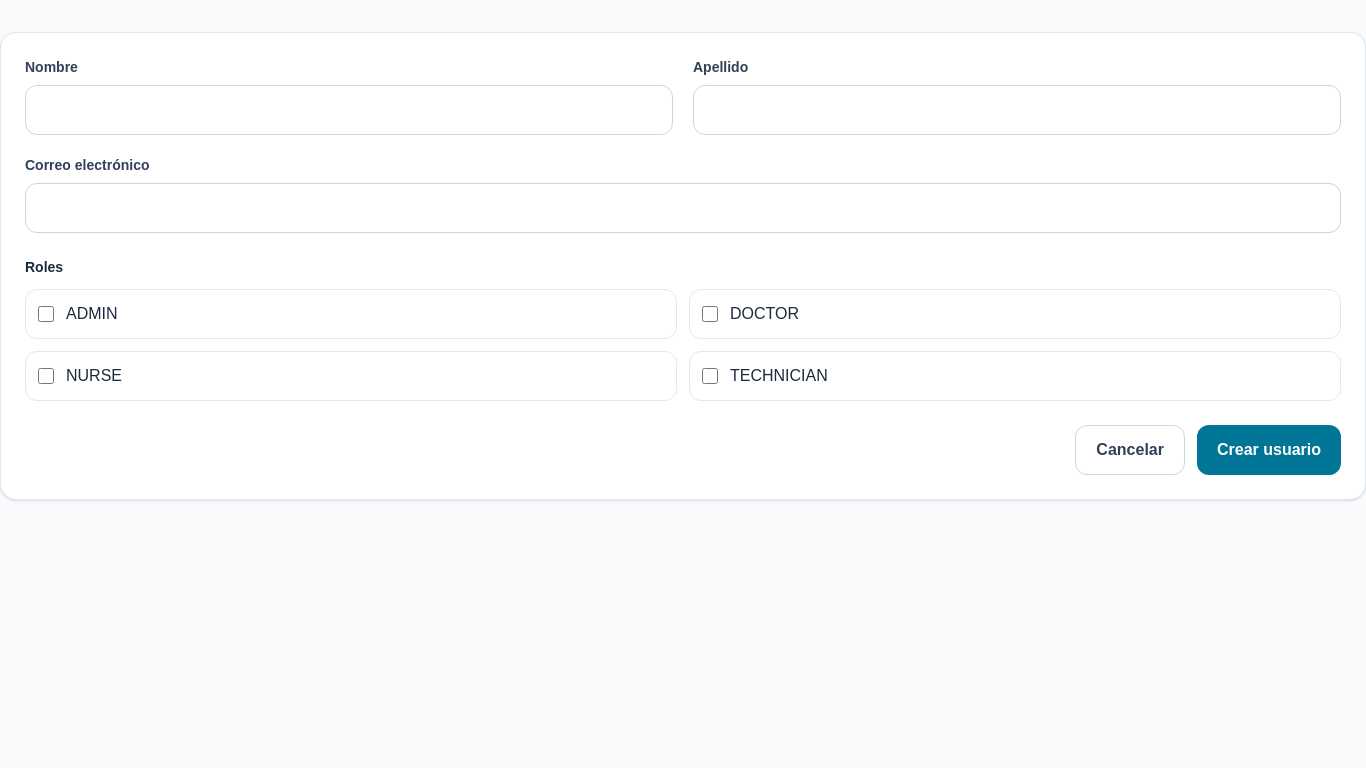
NewUserForm › exige al menos un rol
This screenshot has width=1366, height=768.
Type "doctor@hospital.com" into the field labelled "Correo electrónico" at (683, 208), box x1=25 y1=183 x2=1341 y2=233
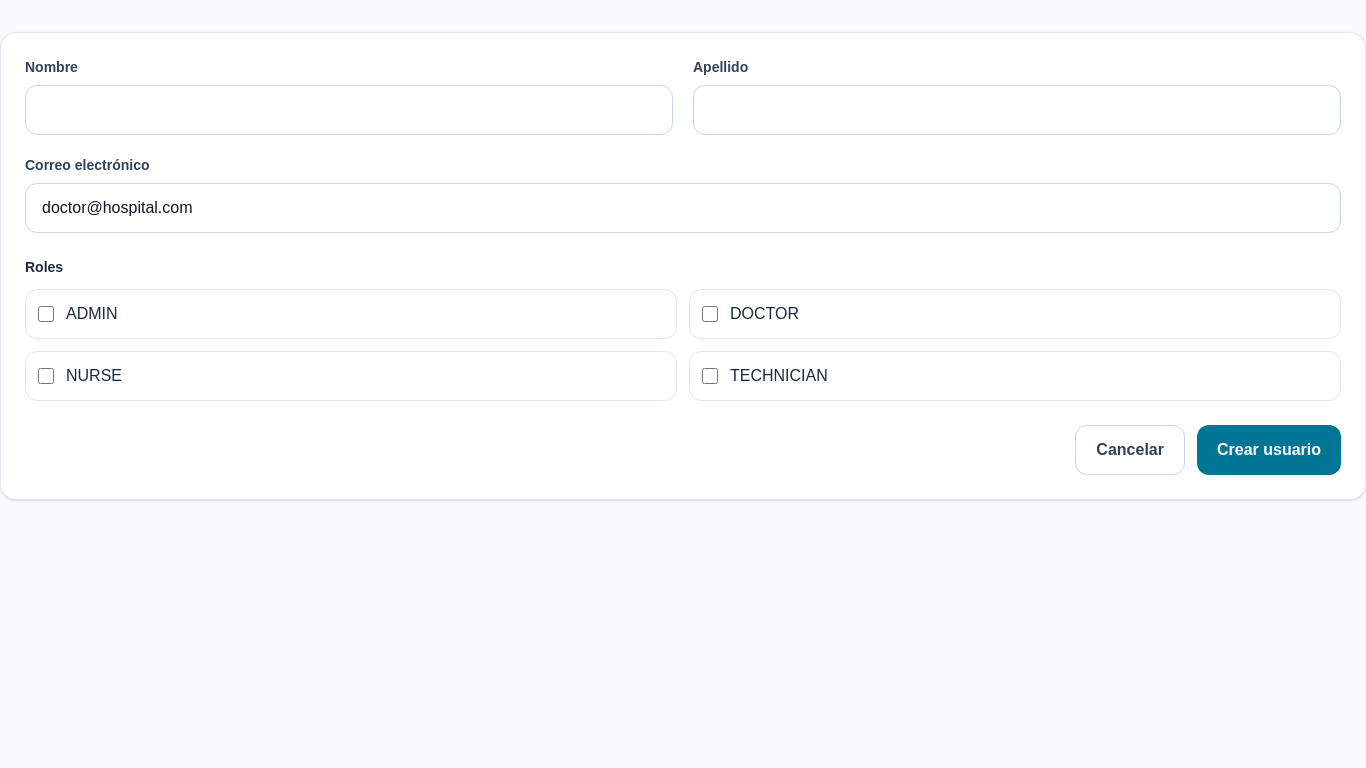
Type "Juan" into the field labelled "Nombre" at (349, 110), box x1=25 y1=85 x2=673 y2=135
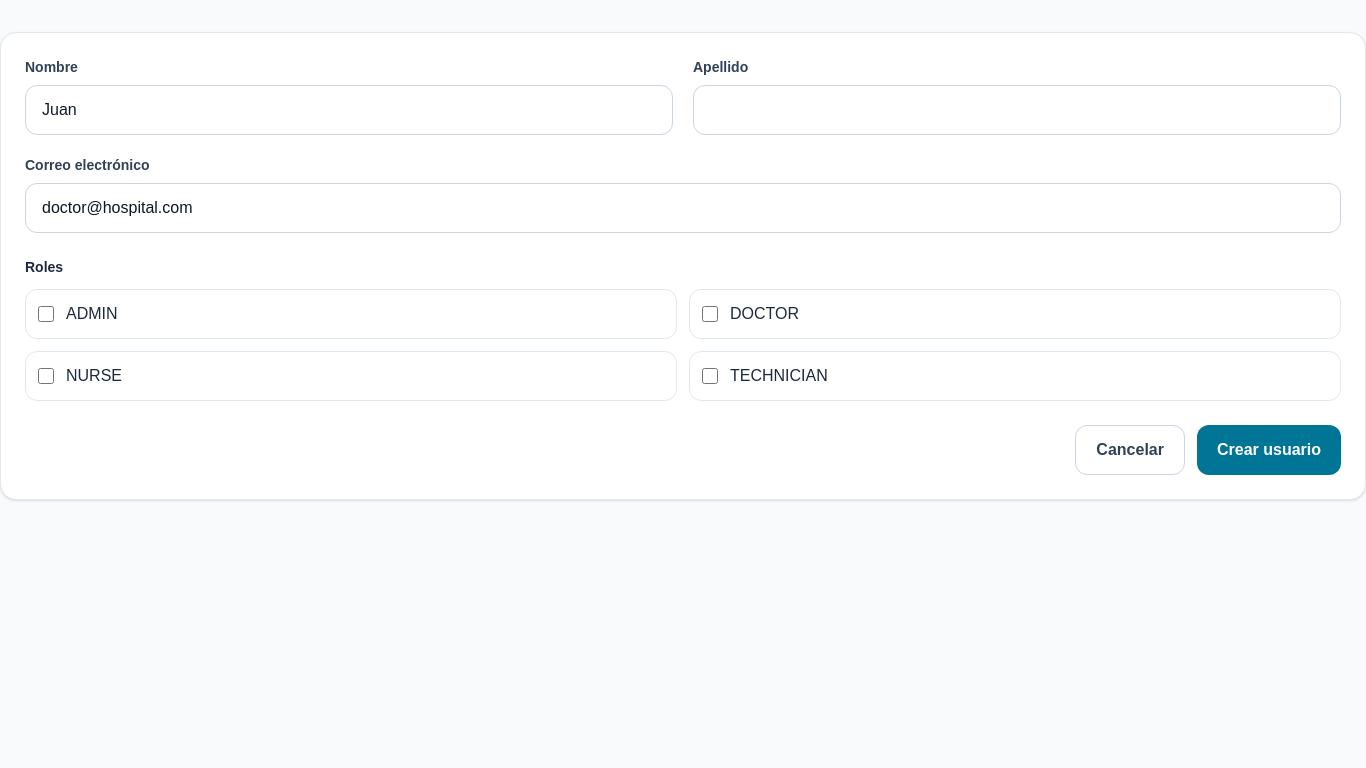
Type "Pérez" into the field labelled "Apellido" at (1017, 110), box x1=693 y1=85 x2=1341 y2=135
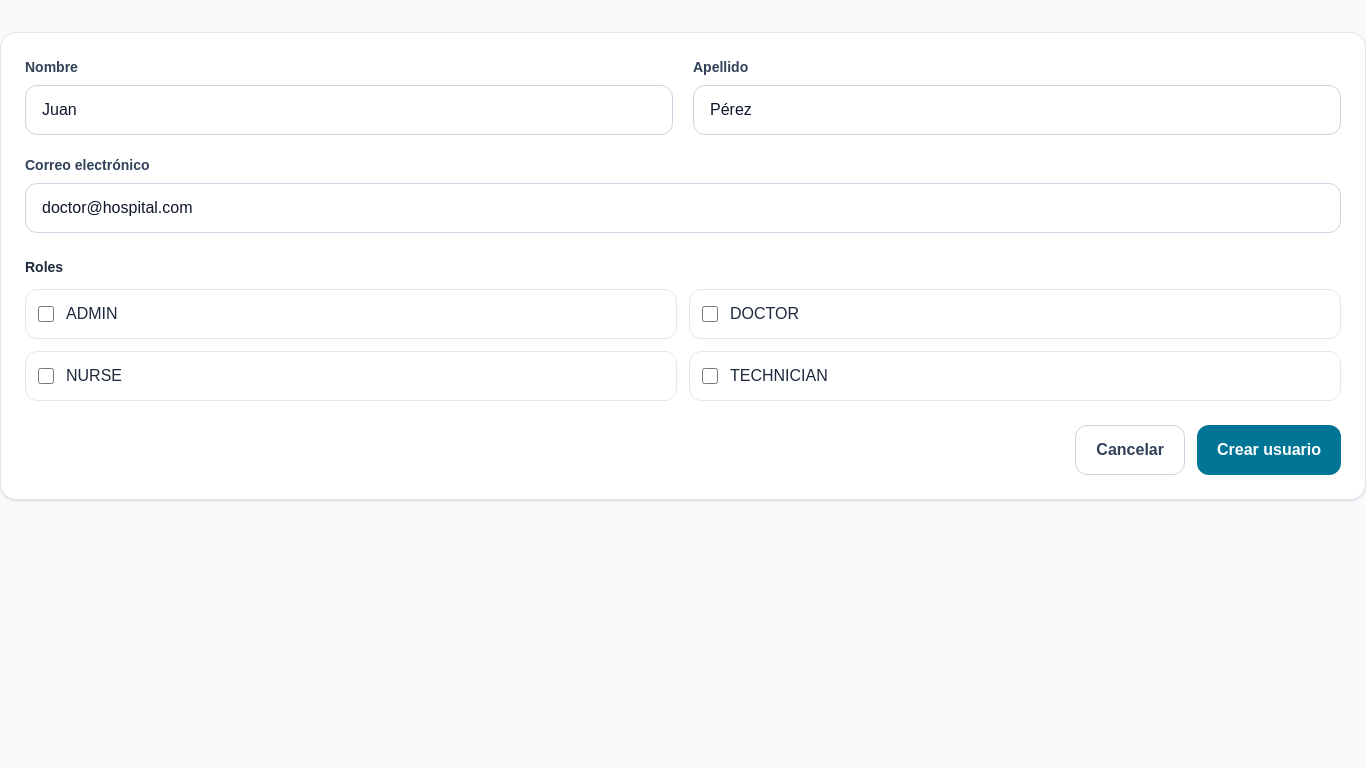
Submit the form named "Crear usuario"
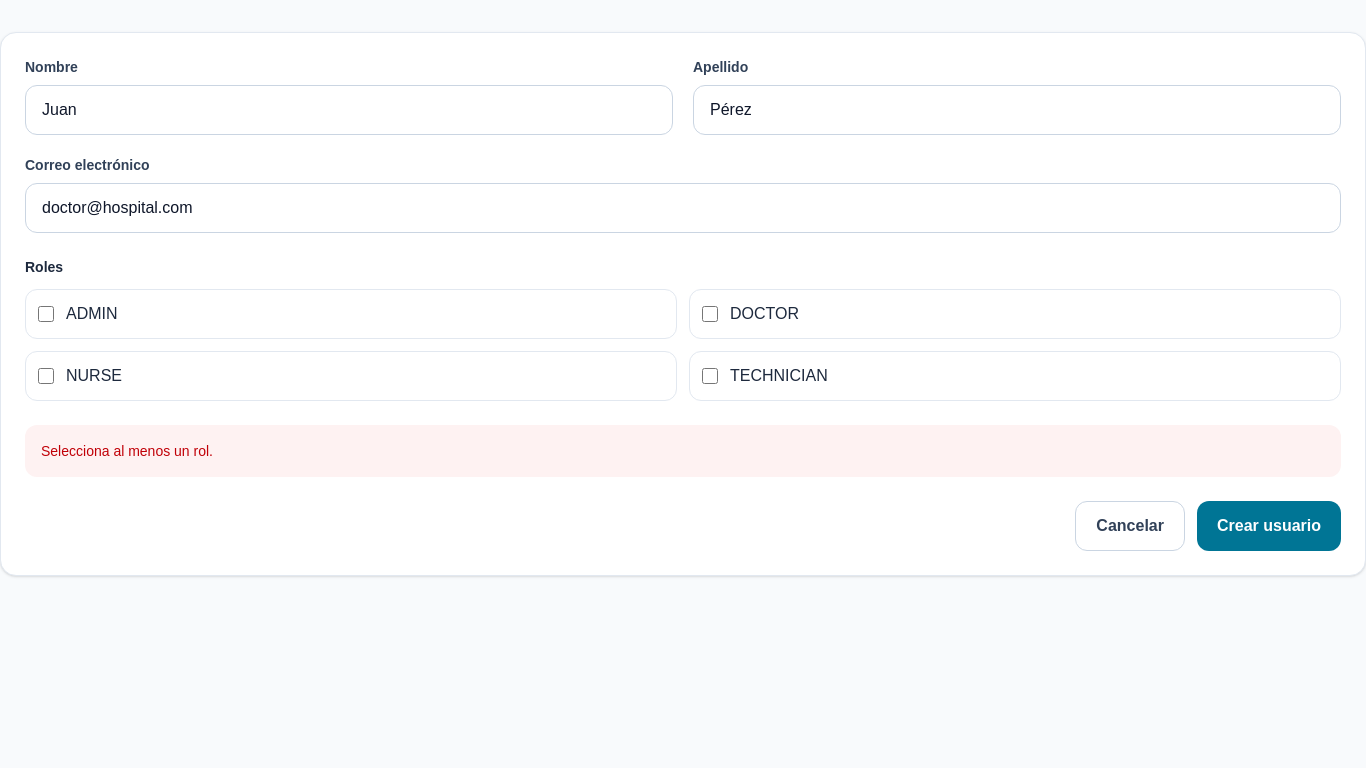
Check: the message reads "Selecciona al menos un rol.", box x1=41 y1=443 x2=213 y2=459
